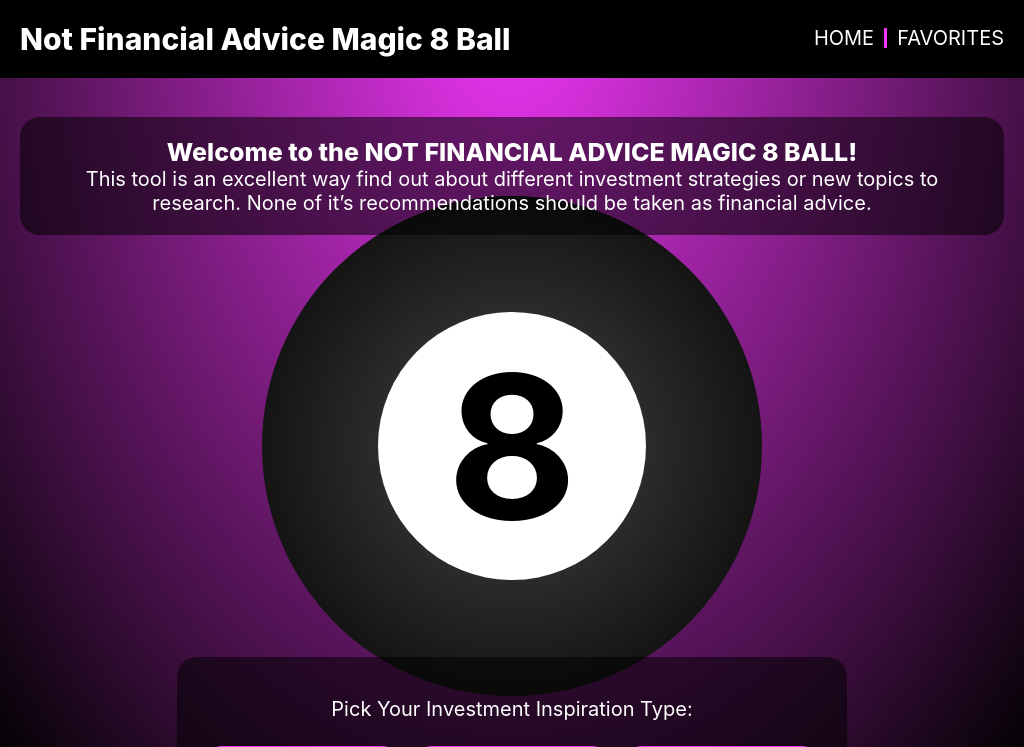
Load Website, check for elements, and check for functionality › should go to Favorites page when Favorite Button on Navigation is clicked
Click the text with class "navigation-link" showing "FAVORITES": [951, 38] box [897,23,1004,53]
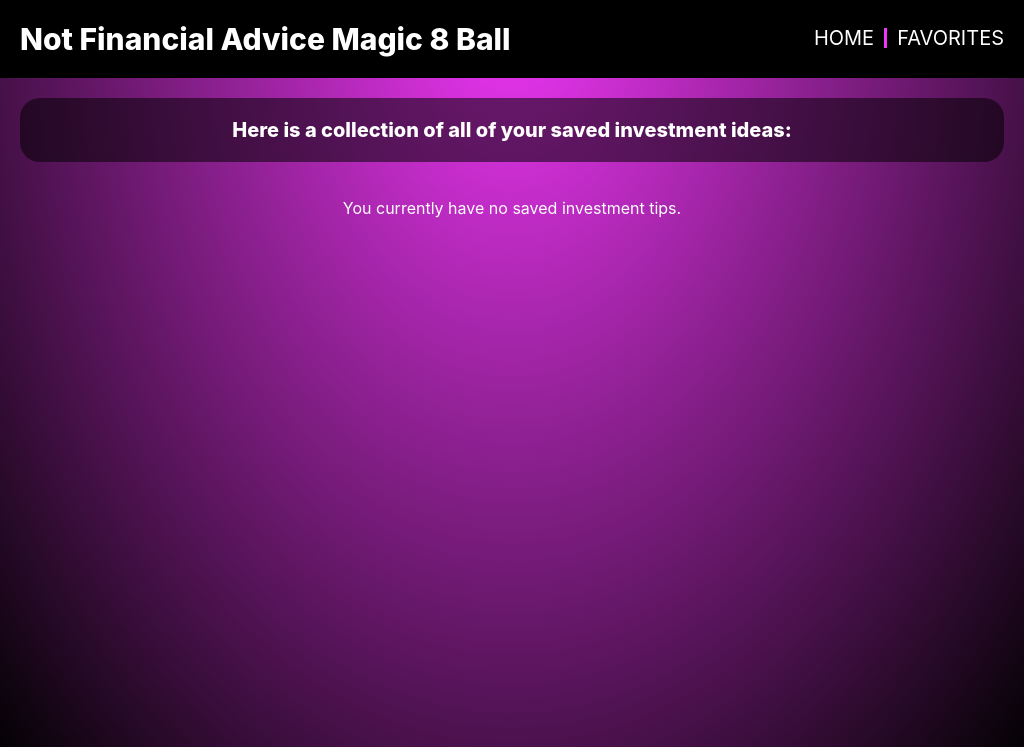
Check: the element with class "favorites-view" is shown, box [0,78,1023,274]
